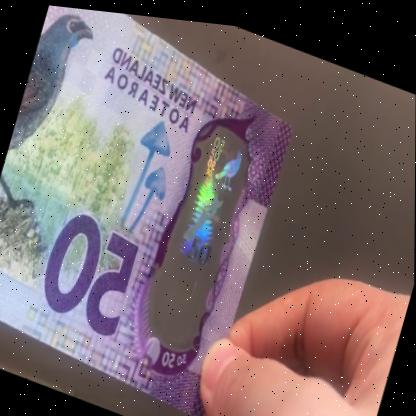50B: (153, 121, 250, 330)
